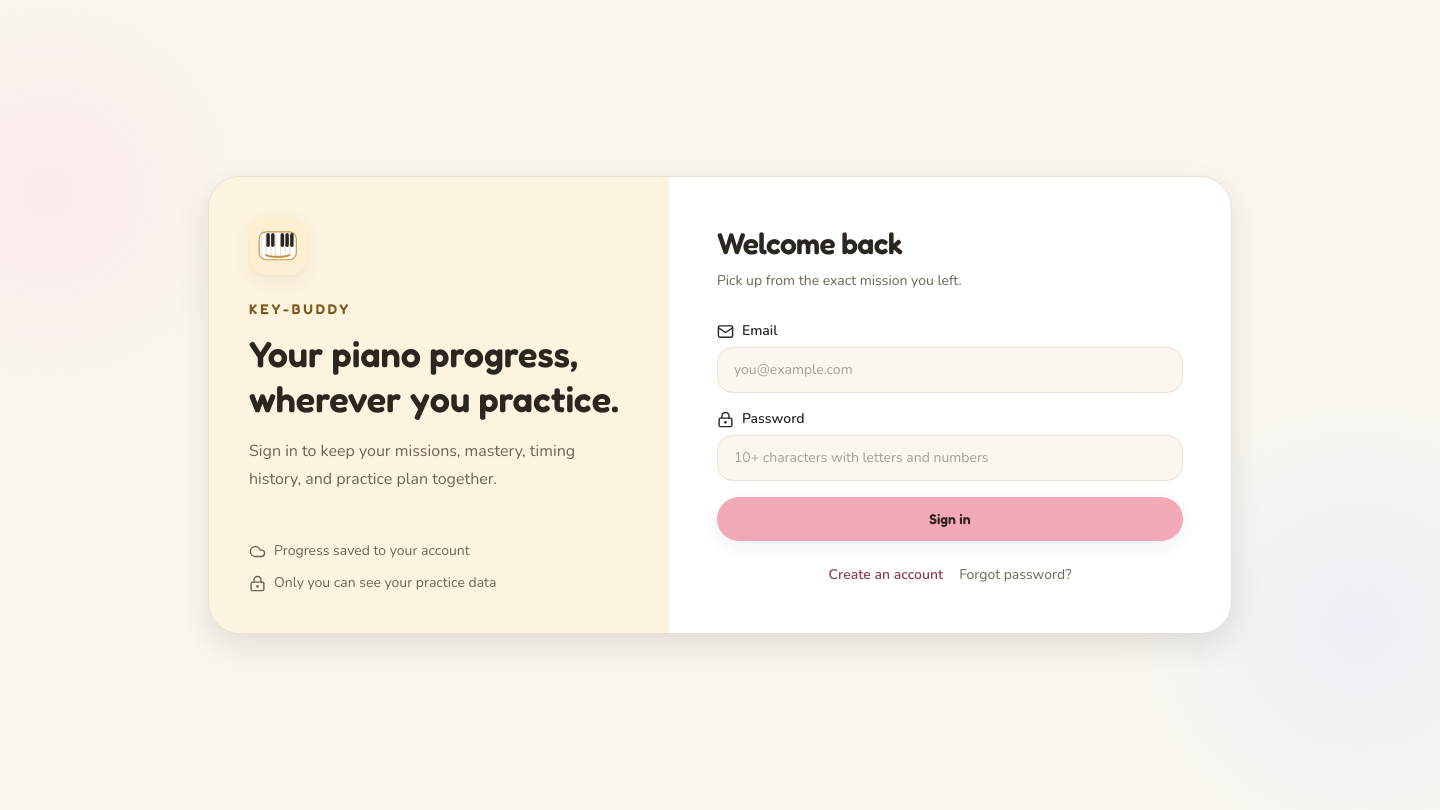
AuthScreen › moves between sign-in, account creation, and password recovery
This screenshot has width=1440, height=810.
Expected: the heading "Welcome back" is shown, top-left (717, 225), bottom-right (902, 261)
Click the button "Create an account". click: (886,575)
box: top-left (828, 565), bottom-right (943, 585)
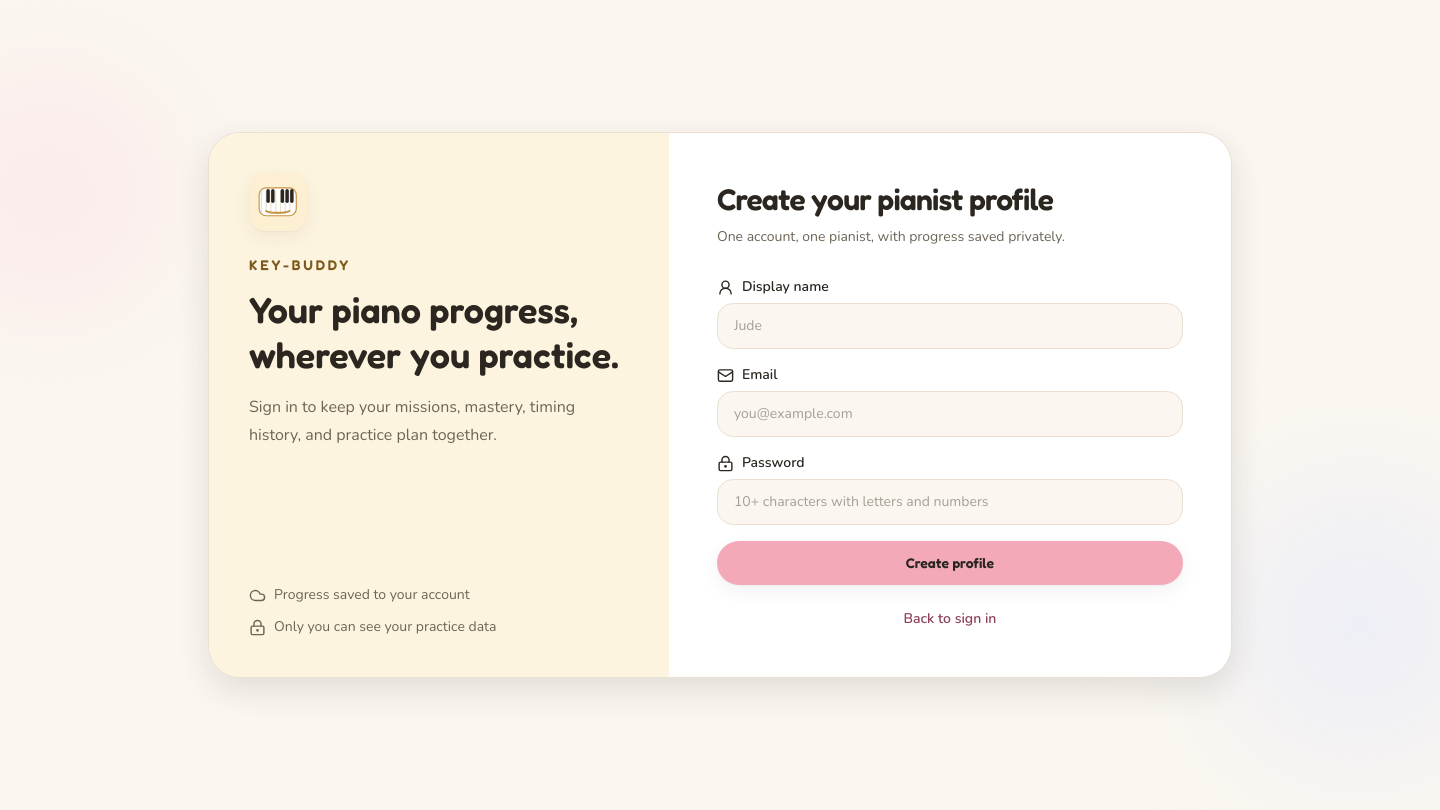
Result: the heading "Create your pianist profile" is shown at top-left (717, 181), bottom-right (1053, 217)
Result: the field labelled "Display name" is shown at top-left (717, 303), bottom-right (1183, 349)
Result: the button "Create profile" is shown at top-left (717, 541), bottom-right (1183, 585)
Click the button "Back to sign in". click: (950,619)
box: top-left (904, 609), bottom-right (996, 629)
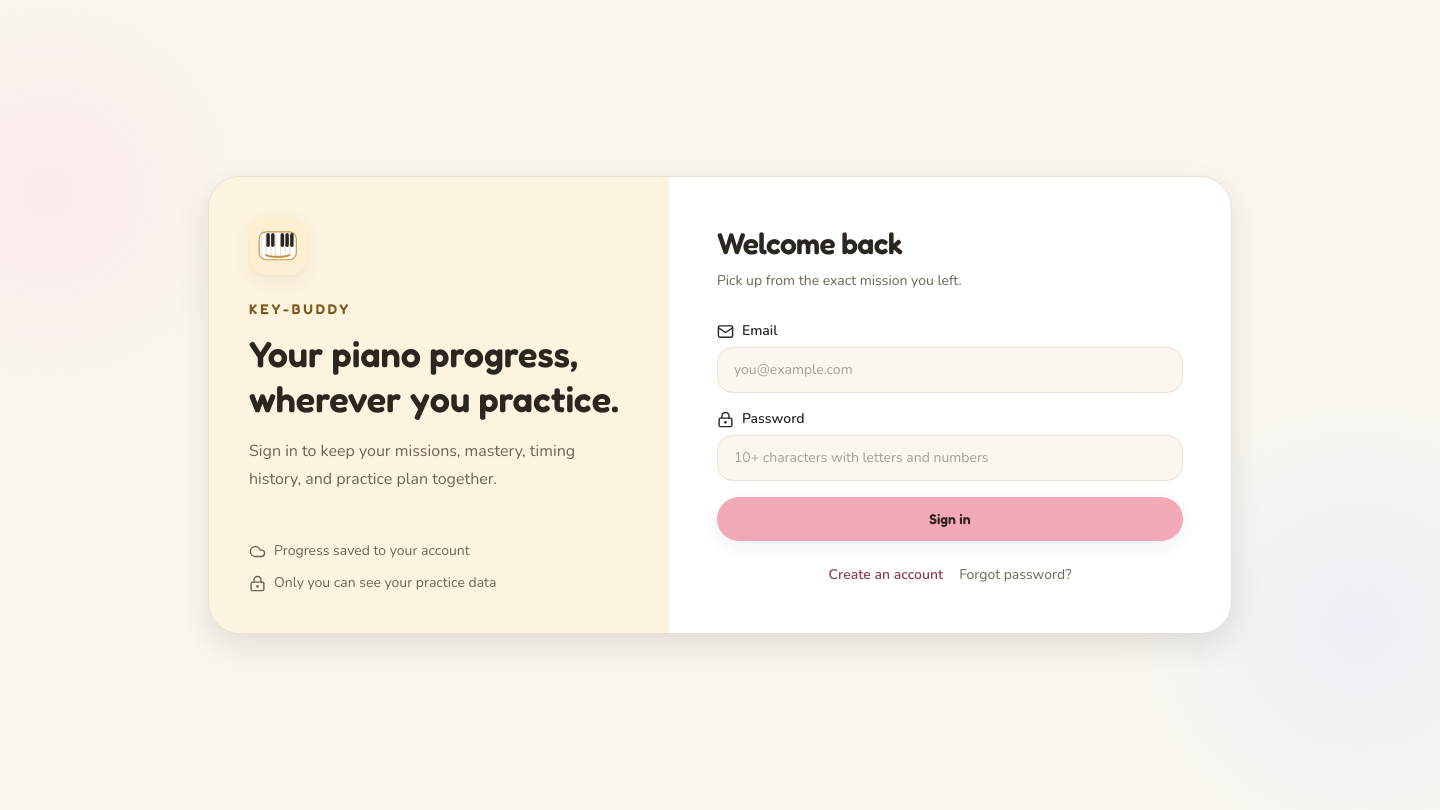
Click the button "Forgot password?". click: (1015,575)
box: top-left (959, 565), bottom-right (1071, 585)
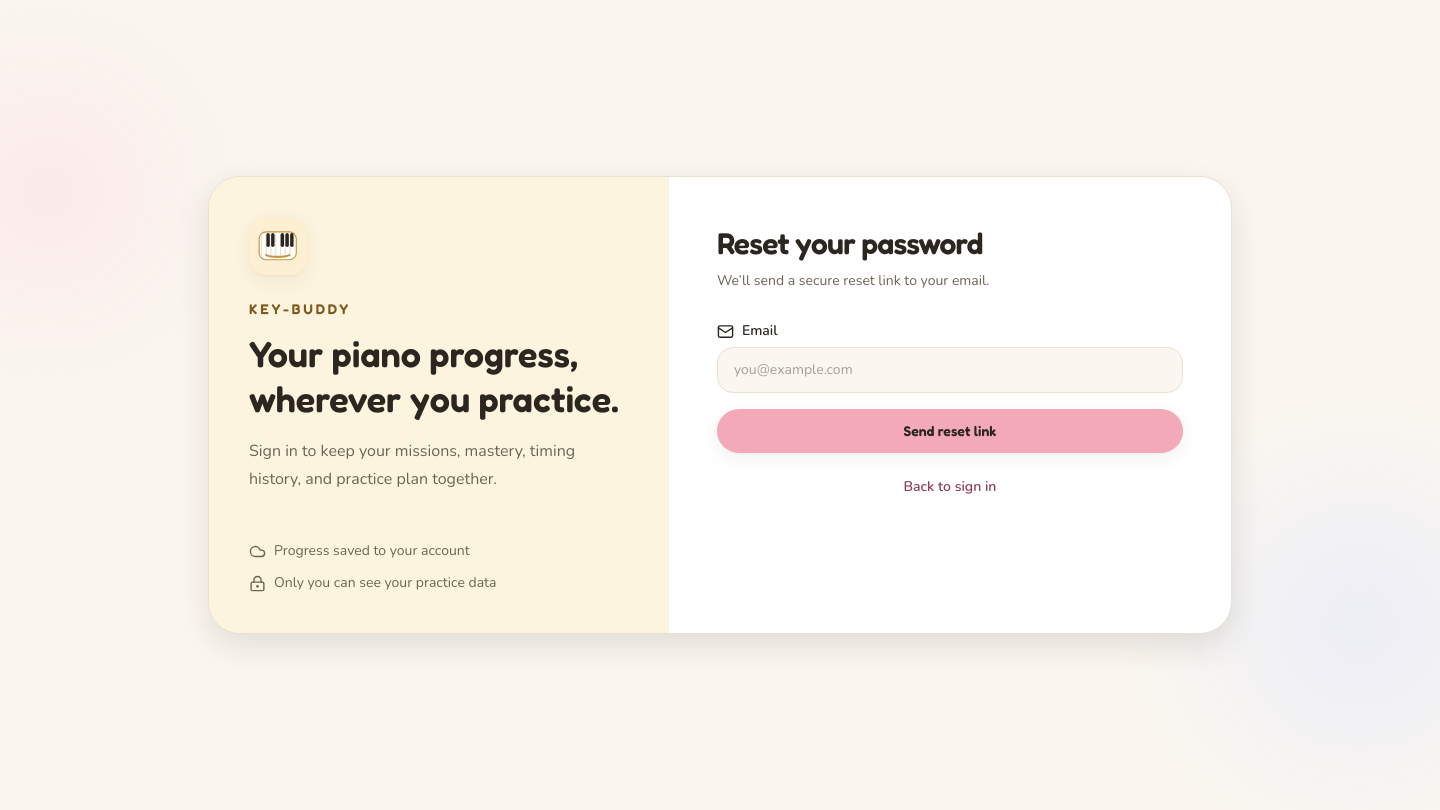
Result: the heading "Reset your password" is shown at top-left (717, 225), bottom-right (983, 261)
